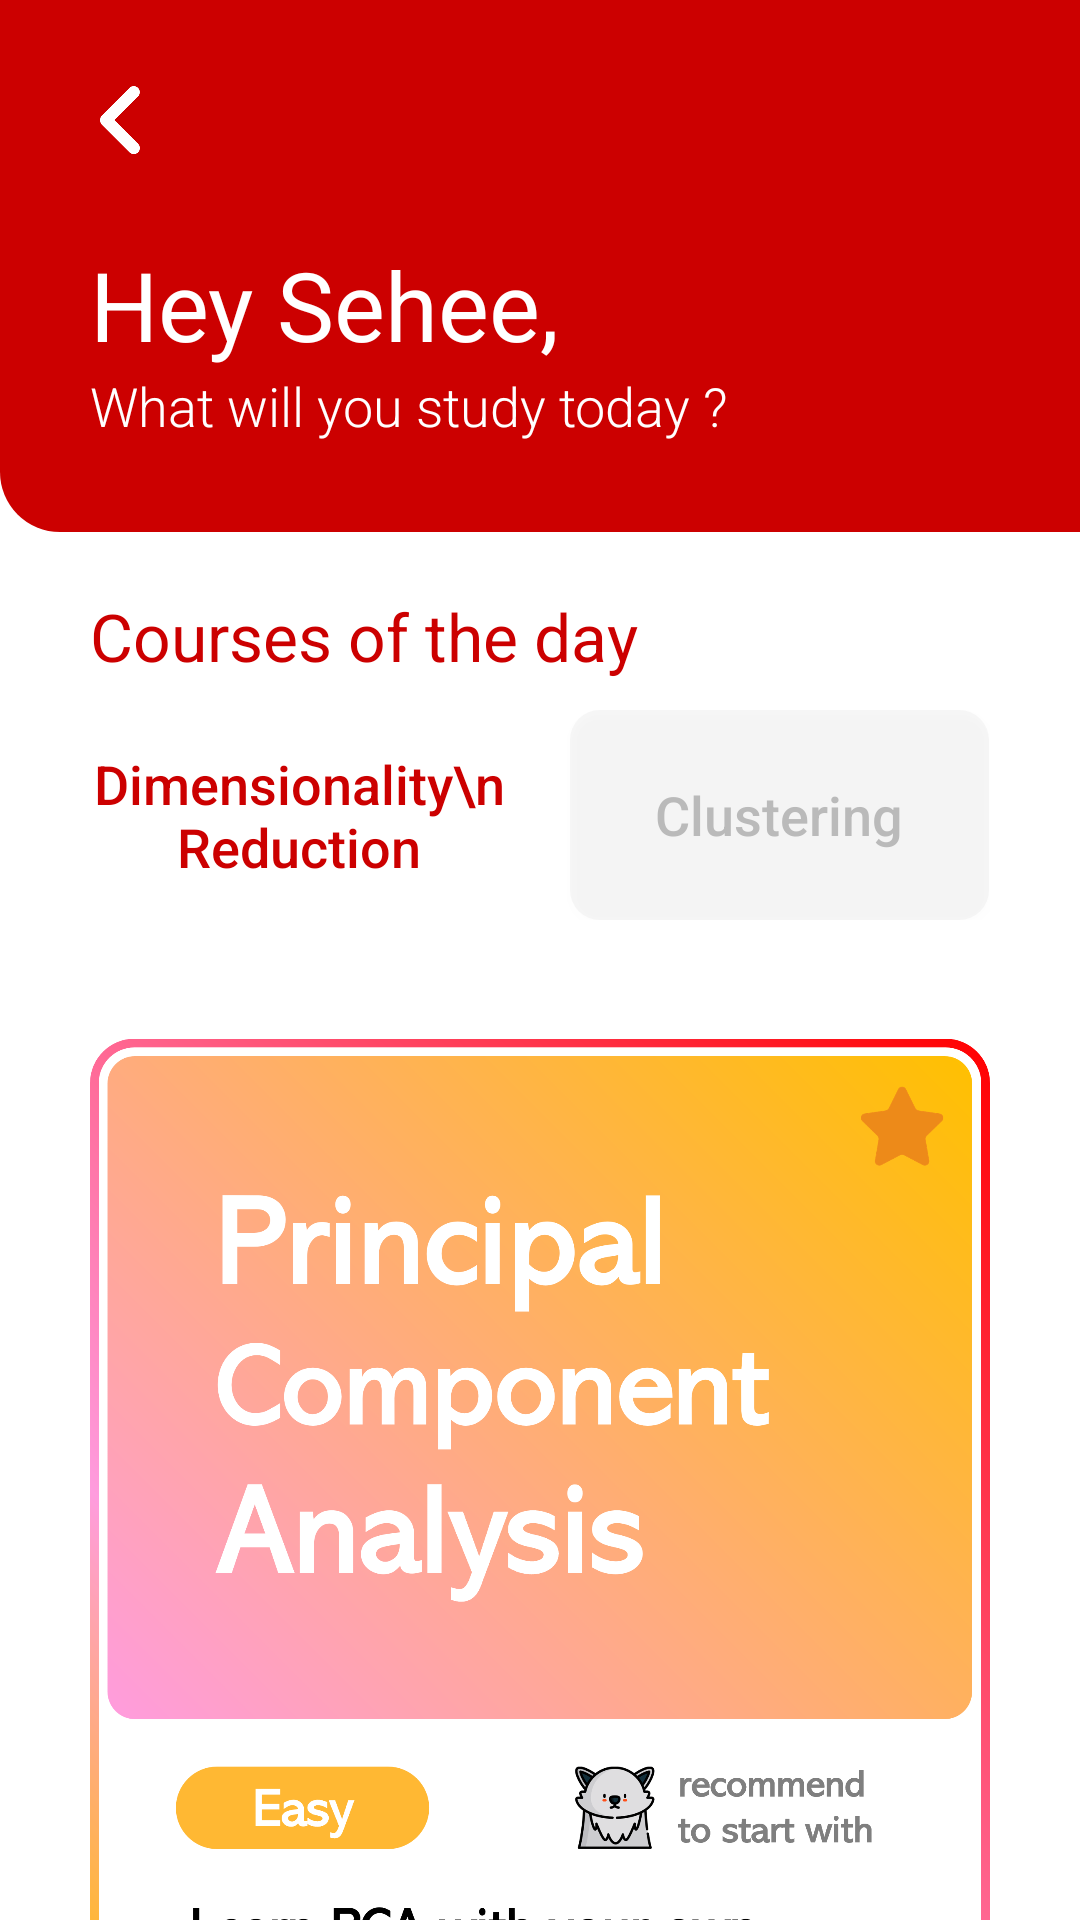

Icon bounding boxes for this 1080px×1920px phone screenshot, format (x1, y1, x2, y2):
back square: (100, 86, 140, 154)
